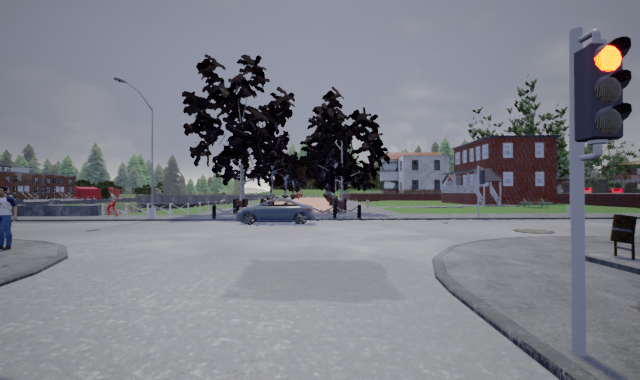pedestrian: (1, 184, 17, 251), (105, 189, 121, 216)
vehicle: (232, 197, 315, 225)
